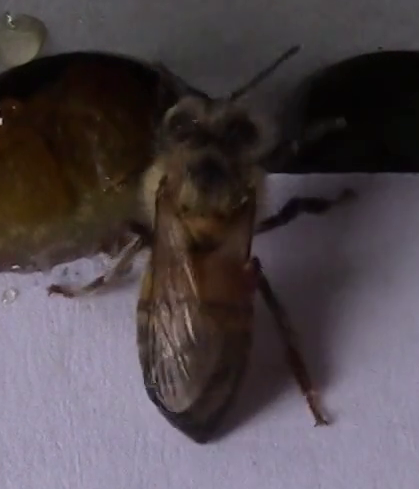Varroa destructor: (234, 252, 275, 303)
